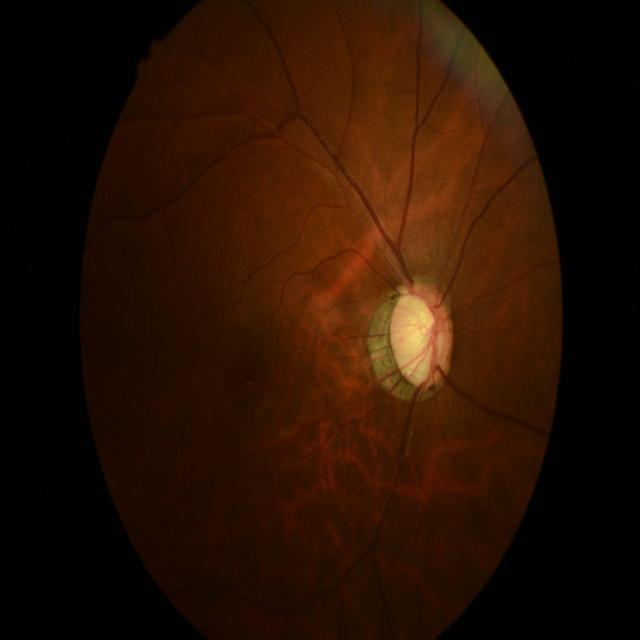cup: (393, 296, 437, 381)
disk: (390, 285, 452, 388)
